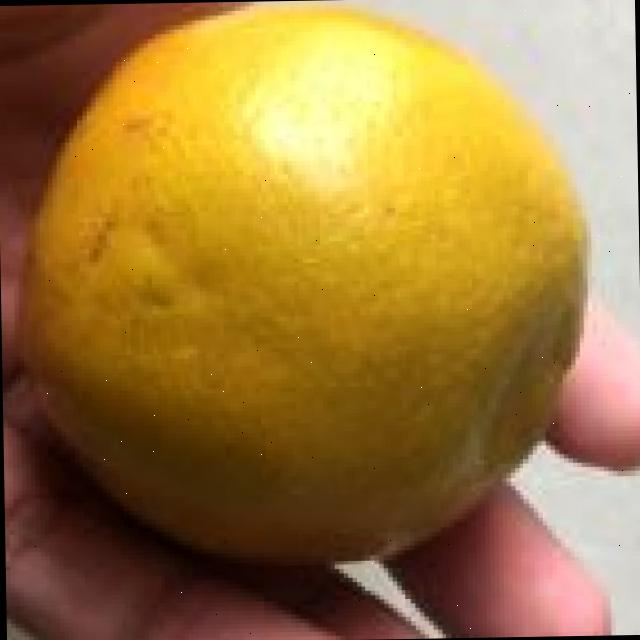Good_Orange-15-21 days: (1, 4, 590, 563)
